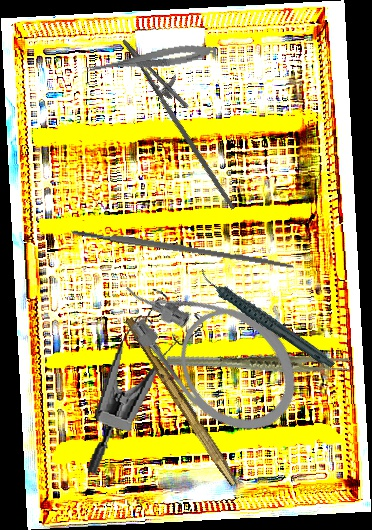Cannula: (100, 236, 320, 455)
Handpiece: (197, 245, 336, 392)
Micro Scissor: (80, 39, 218, 82)
Needle Holder: (102, 28, 266, 211)
Scalpel Handle: (120, 316, 244, 487), (69, 226, 296, 271)
Speculum: (85, 282, 208, 487)
Tissue Forceps: (165, 320, 352, 405)
